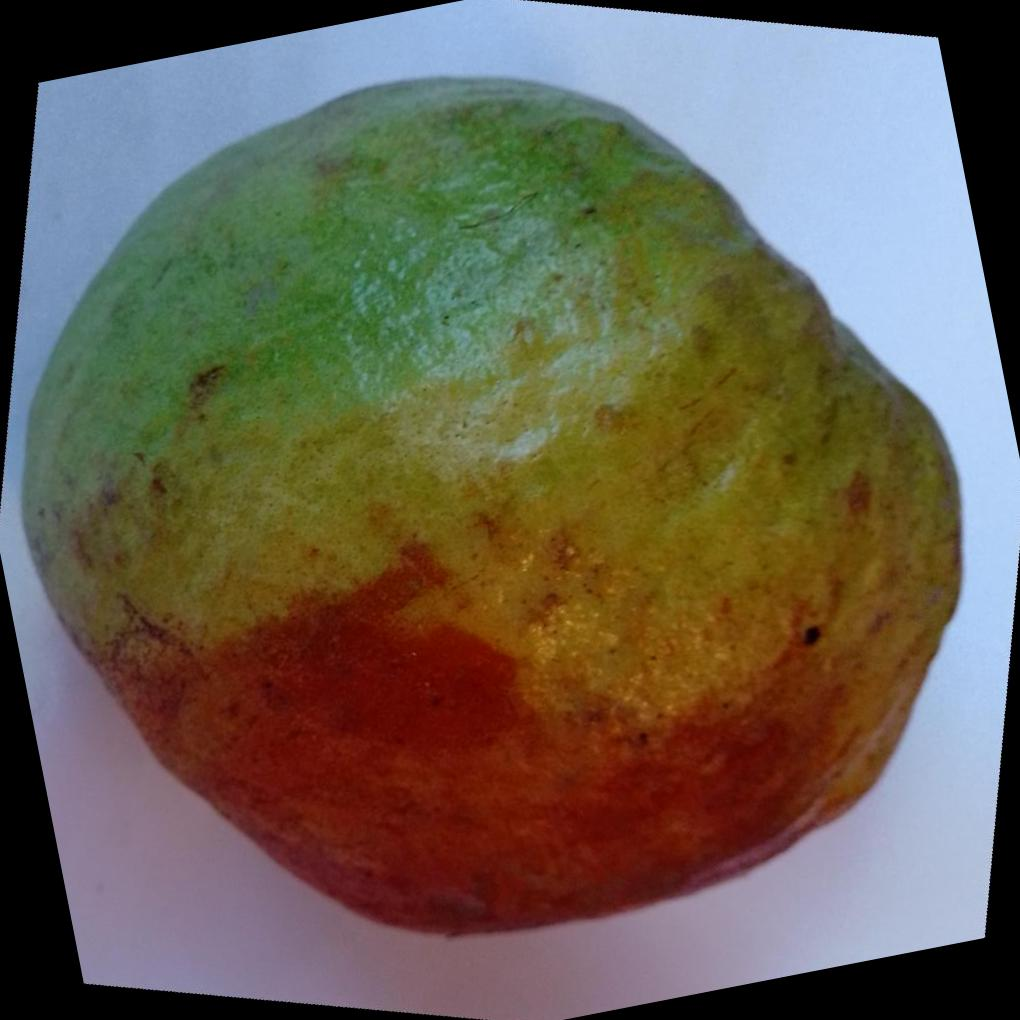FreshOrange: (15, 74, 962, 939)
